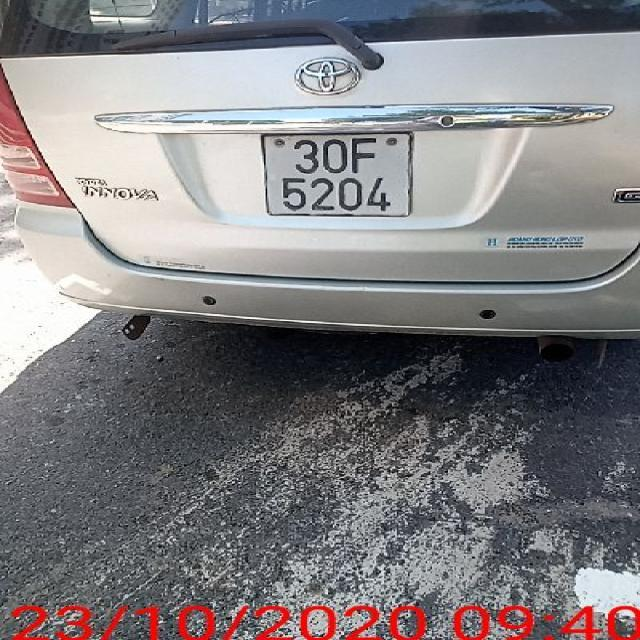bien_so_oto: (260, 134, 415, 218)
